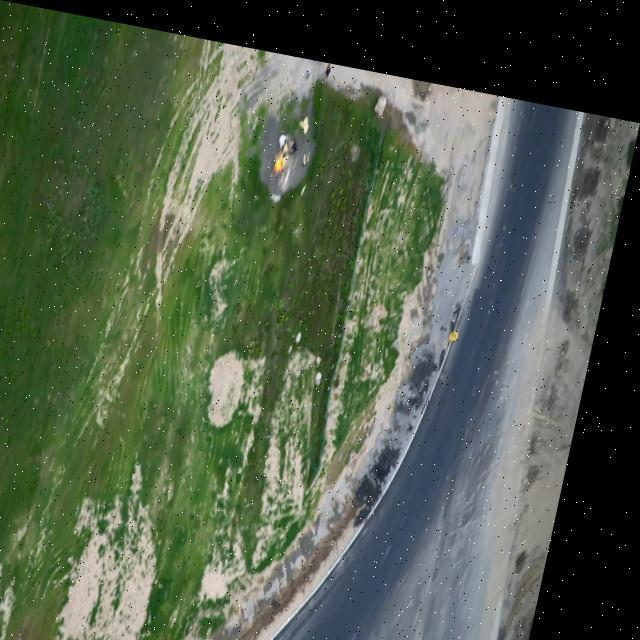Fire: (260, 98, 314, 175)
